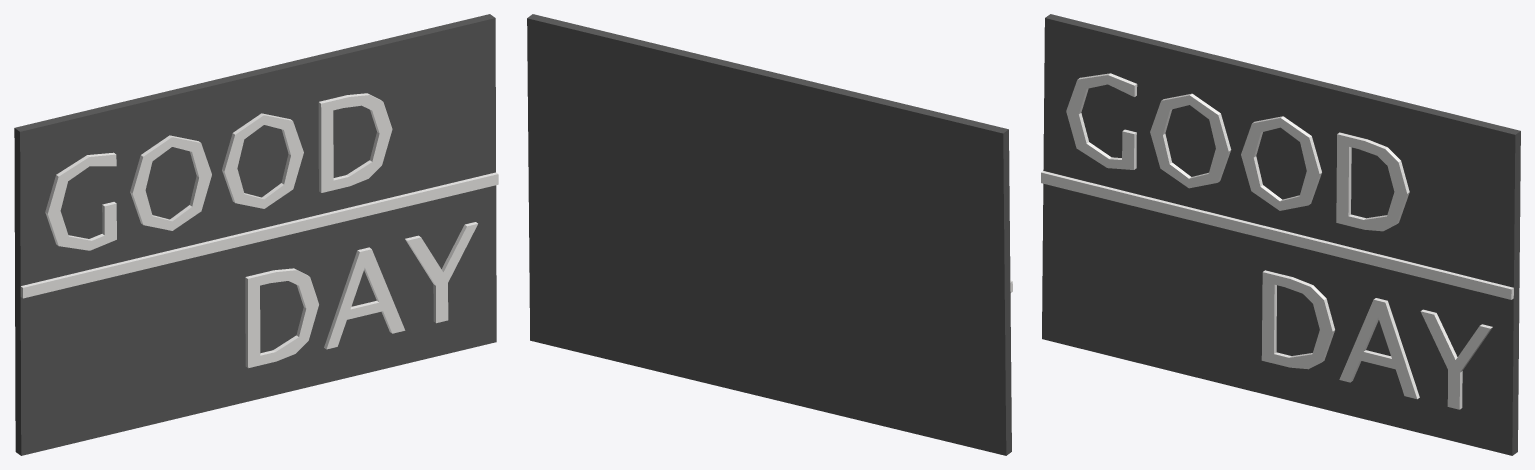
Rendered from Decoration_2.fbx.
3 views of the same model, side by side, from view 1: azimuth 30°, elevation 25°; view 2: azimuth 150°, elevation 25°; view 3: azimuth 330°, elevation 25° (orthographic).
Visible parts, largest first — view 1: Decoration_2; view 2: Decoration_2; view 3: Decoration_2.
Boxes of the visible parts, <box> form: Decoration_2: <box>14,14,498,455</box>; Decoration_2: <box>527,14,1012,455</box>; Decoration_2: <box>1041,14,1520,455</box>.
Bounding box in the file's own units: 77.24 × 3 × 50.26.
